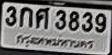letters: (35, 7, 50, 31), (19, 6, 33, 28), (94, 12, 108, 34), (81, 11, 94, 33), (5, 6, 18, 27), (55, 9, 67, 31), (68, 10, 80, 32)
province: (15, 34, 95, 52)
